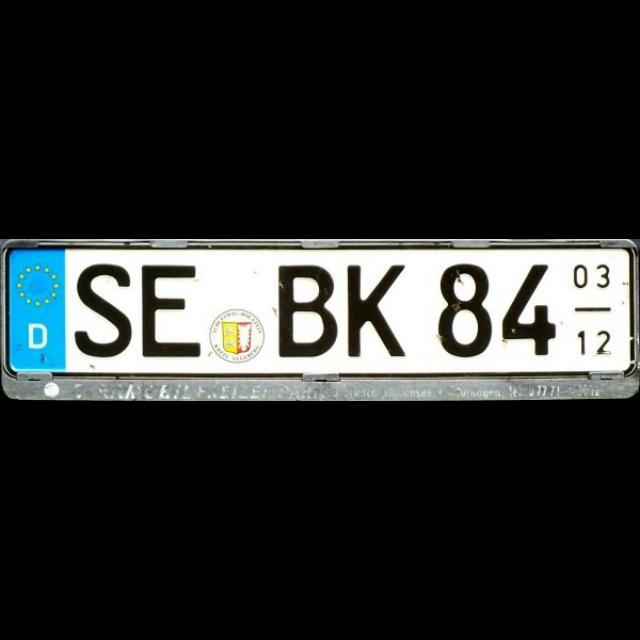license-plates: (1, 240, 640, 400)
